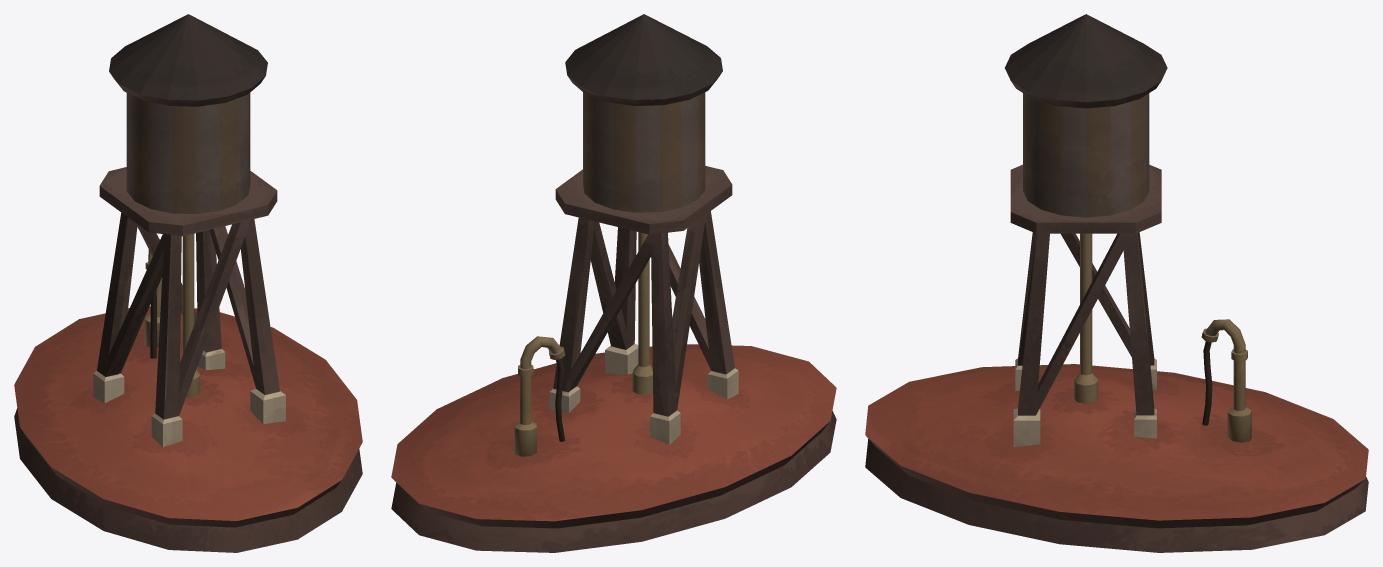
Rendered from Water Tower.fbx.
3 renders of one model, left to right at view 1: azimuth 30°, elevation 25°; view 2: azimuth 150°, elevation 25°; view 3: azimuth 270°, elevation 25°, orthographic. The views are drawn at different scales.
Visible parts, largest first — view 1: Base, Tower, Pump; view 2: Base, Tower, Pump; view 3: Base, Tower, Pump.
Part boxes in pixels (<box>): Base: <box>14,306,362,552</box>; Tower: <box>93,14,285,447</box>; Pump: <box>144,239,162,358</box>; Base: <box>391,344,836,552</box>; Tower: <box>549,14,738,444</box>; Pump: <box>514,336,565,456</box>; Base: <box>865,364,1368,552</box>; Tower: <box>1005,14,1167,446</box>; Pump: <box>1201,319,1251,442</box>.
Bounding box in the file's own units: 625 × 844 × 850.
3 materials, 3 textured.
